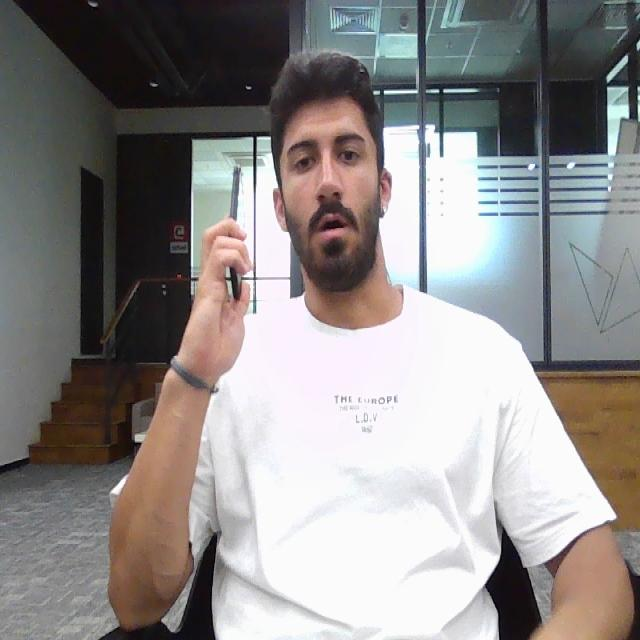phone: (225, 159, 244, 301)
